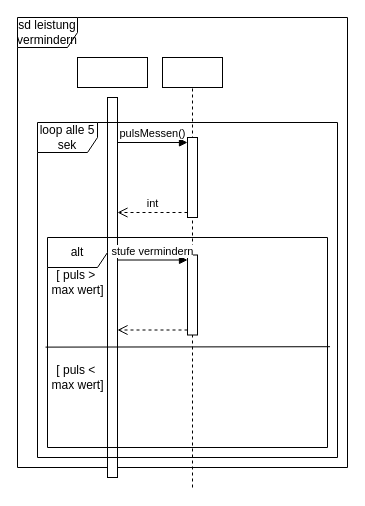
This 365x506 diagram has some shape labels left out. The shapes that lost their labels are listed below. From the top down, each one's centre as x and y in pixels, then its label:
the point at 112,72: : Steuerung
the point at 192,72: : Gerät
